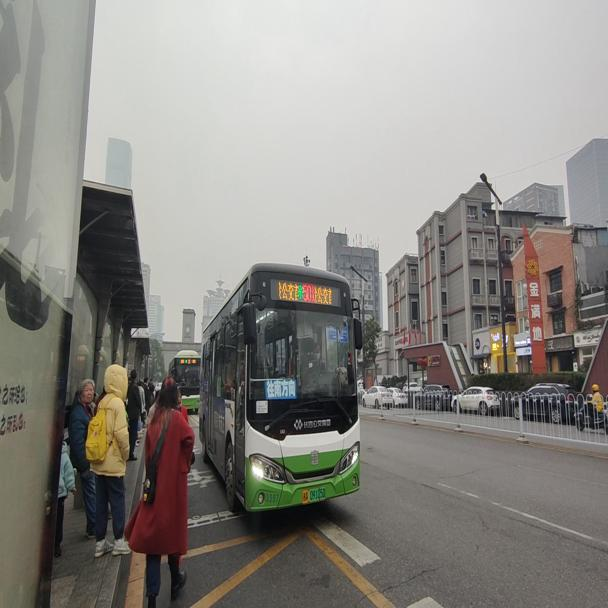bus: (197, 261, 360, 515), (167, 346, 200, 410)
screen: (301, 280, 315, 304)
